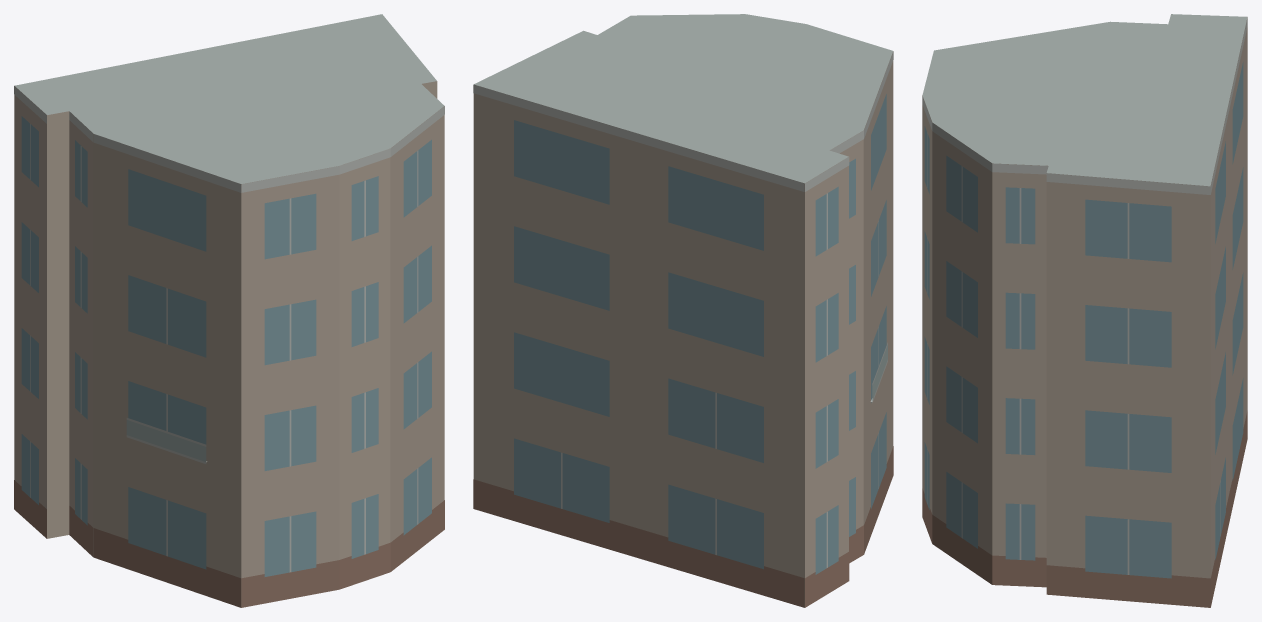
The model's file is survey-upis-32474503.glb.
3 views of the same model, side by side, from view 1: azimuth 30°, elevation 25°; view 2: azimuth 150°, elevation 25°; view 3: azimuth 270°, elevation 25° (orthographic).
Parts seen in each view (by area): view 1: survey-upis-32474503.tmp; view 2: survey-upis-32474503.tmp; view 3: survey-upis-32474503.tmp.
Boxes of the visible parts, left/top/right/bottom form: survey-upis-32474503.tmp: left=14, top=14, right=444, bottom=607; survey-upis-32474503.tmp: left=473, top=14, right=893, bottom=607; survey-upis-32474503.tmp: left=922, top=14, right=1247, bottom=607.
Size of the model in its own units: 10.27 by 11.7 by 8.19.
